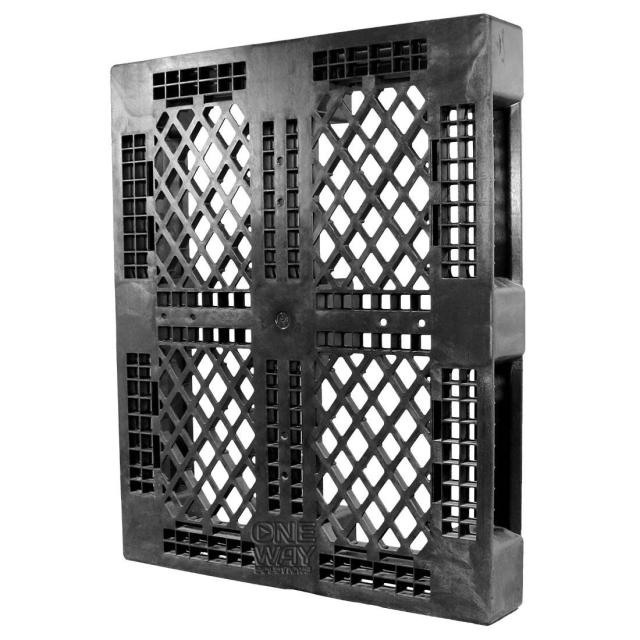non-igps: (101, 8, 547, 631)
